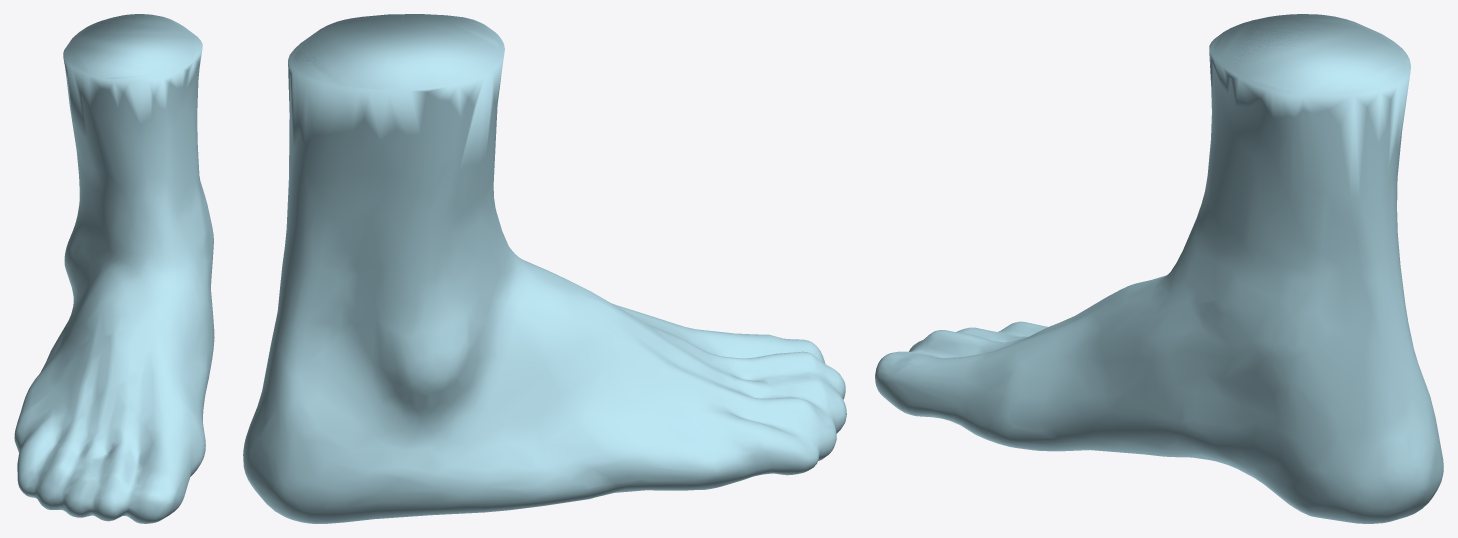
Rendered from foot-proto.lite.glb.
3 views of the same model, side by side, from view 1: azimuth 30°, elevation 25°; view 2: azimuth 150°, elevation 25°; view 3: azimuth 270°, elevation 25° (orthographic). The views are drawn at different scales.
Visible parts, largest first — view 1: skin.001; view 2: skin.001; view 3: skin.001.
Part boxes in pixels (bbox=[...]): skin.001: bbox=[14, 14, 214, 523]; skin.001: bbox=[243, 14, 846, 523]; skin.001: bbox=[875, 14, 1443, 523].
Bounding box in the file's own units: 0.1747 × 0.1912 × 0.2236.
